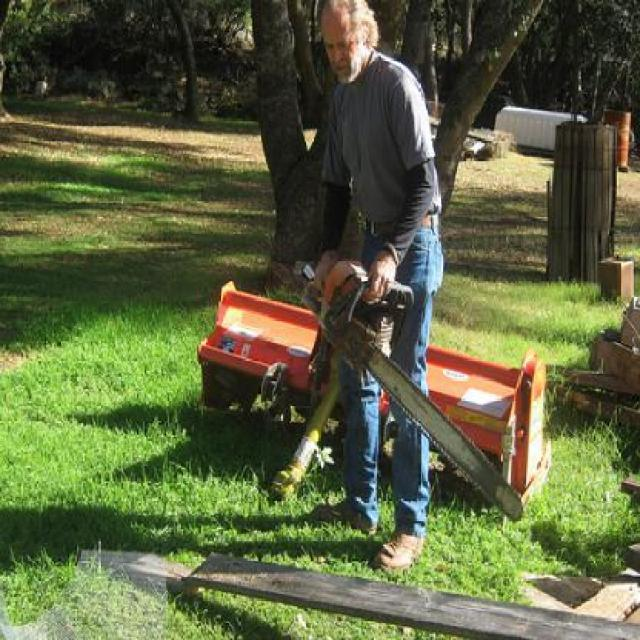Chainsaw: (302, 258, 528, 522)
